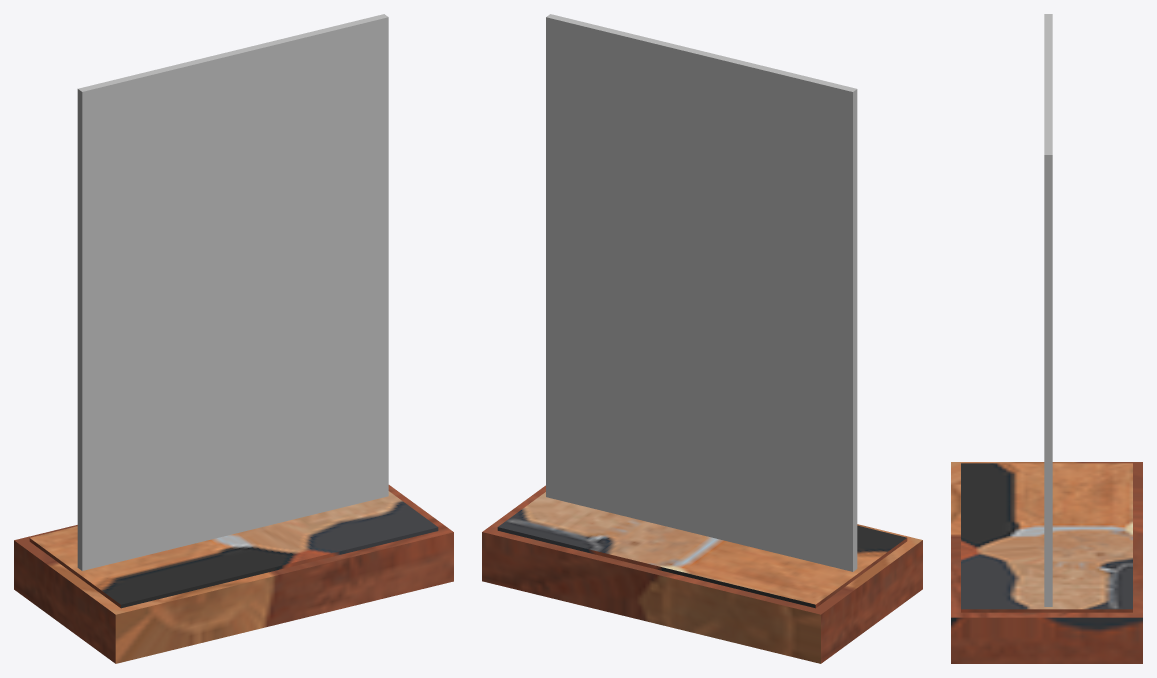
Rendered from stand.fbx.
3 renders of one model, left to right at view 1: azimuth 30°, elevation 25°; view 2: azimuth 150°, elevation 25°; view 3: azimuth 270°, elevation 25°, orthographic. The views are drawn at different scales.
Visible parts, largest first — view 1: acrylic, stand; view 2: acrylic, stand; view 3: stand, acrylic.
Boxes of the visible parts, x1,y1,x2,y2 form: acrylic: (77,14,388,570); stand: (14,485,453,663); acrylic: (546,14,857,571); stand: (482,485,922,663); stand: (951,462,1142,663); acrylic: (1044,14,1052,606).
Size of the model in its own units: 10.23 by 15.38 by 5.33.
